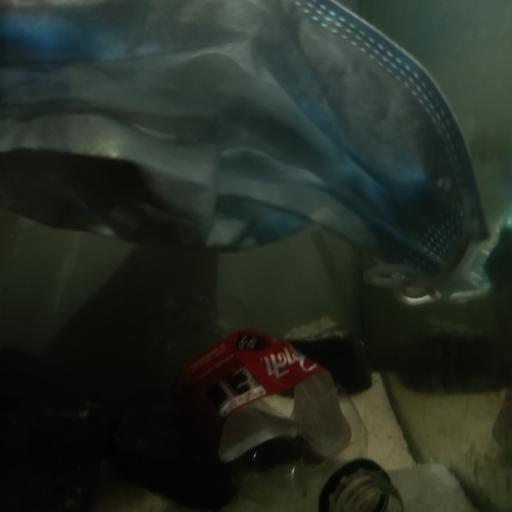mask: (0, 0, 512, 303)
plastic_bottle: (143, 301, 402, 512)
